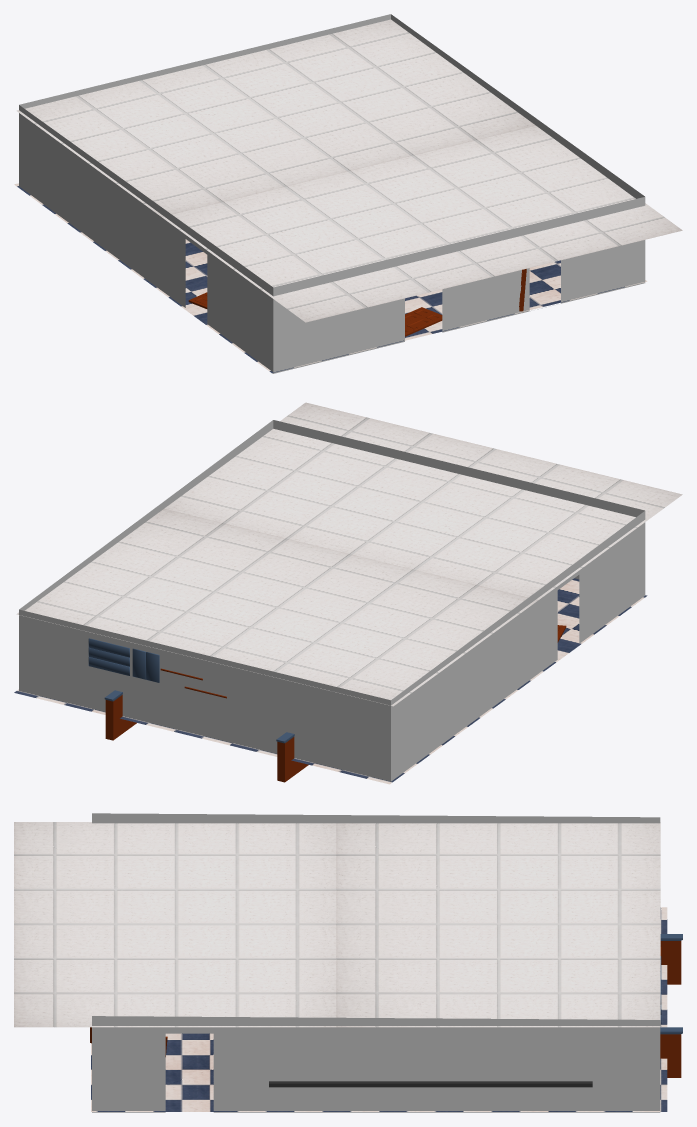
The model's file is Restaurant.fbx.
The picture shows the model from 3 angles, top to bottom: view 1: azimuth 30°, elevation 25°; view 2: azimuth 150°, elevation 25°; view 3: azimuth 270°, elevation 25°; orthographic projection. The views are drawn at different scales.
Parts seen in each view (by area): view 1: a56bcd4c-1e01-4d66-92db-a167db9fd7f5, a56bcd4c-1e01-4d66-92db-a167db9fd7f5.001, Plane.001, 84747d87-accb-4e9c-8102-1f79702b5a6e, Wooden door.001; view 2: Plane.001, a56bcd4c-1e01-4d66-92db-a167db9fd7f5, a56bcd4c-1e01-4d66-92db-a167db9fd7f5.001, 84747d87-accb-4e9c-8102-1f79702b5a6e, Cube.019, Cube.018; view 3: a56bcd4c-1e01-4d66-92db-a167db9fd7f5, a56bcd4c-1e01-4d66-92db-a167db9fd7f5.001, Plane.001, 84747d87-accb-4e9c-8102-1f79702b5a6e, Cube.020, Cube.019, Cube.018.
Boxes of the visible parts, <box> form: a56bcd4c-1e01-4d66-92db-a167db9fd7f5: <box>16,19,535,216</box>; a56bcd4c-1e01-4d66-92db-a167db9fd7f5.001: <box>162,125,682,322</box>; Plane.001: <box>19,14,645,373</box>; 84747d87-accb-4e9c-8102-1f79702b5a6e: <box>14,183,647,372</box>; Wooden door.001: <box>405,307,442,336</box>; Plane.001: <box>19,420,645,781</box>; a56bcd4c-1e01-4d66-92db-a167db9fd7f5: <box>16,509,538,706</box>; a56bcd4c-1e01-4d66-92db-a167db9fd7f5.001: <box>164,402,682,599</box>; 84747d87-accb-4e9c-8102-1f79702b5a6e: <box>14,578,647,784</box>; Cube.019: <box>104,690,136,740</box>; Cube.018: <box>276,732,308,782</box>; a56bcd4c-1e01-4d66-92db-a167db9fd7f5: <box>336,822,660,1027</box>; a56bcd4c-1e01-4d66-92db-a167db9fd7f5.001: <box>14,822,336,1027</box>; Plane.001: <box>92,813,660,1112</box>; 84747d87-accb-4e9c-8102-1f79702b5a6e: <box>91,907,667,1111</box>; Cube.020: <box>269,1081,592,1087</box>; Cube.019: <box>660,1027,682,1077</box>; Cube.018: <box>660,934,682,984</box>.
Bounding box in the file's own units: 2031 × 525 × 2782.
